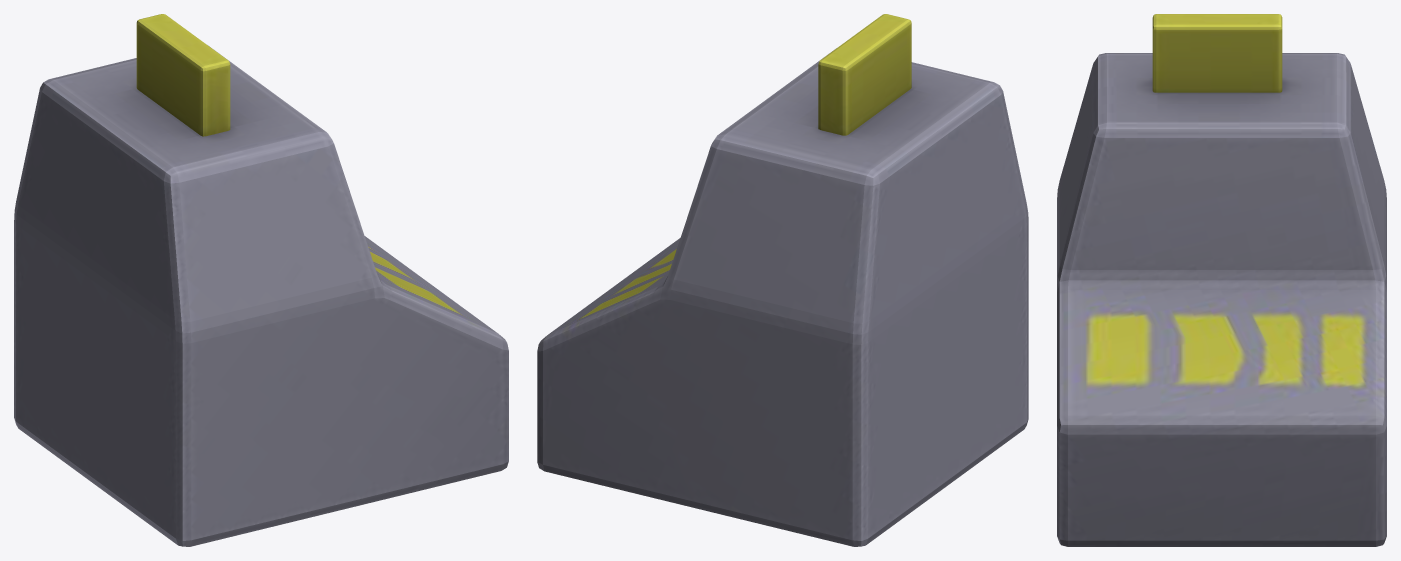
Rendered from SYJ.FBX.
The picture shows the model from 3 angles, left to right: view 1: azimuth 30°, elevation 25°; view 2: azimuth 150°, elevation 25°; view 3: azimuth 270°, elevation 25°; orthographic projection. The views are drawn at different scales.
Parts seen in each view (by area): view 1: 对象001; view 2: 对象001; view 3: 对象001.
Part boxes in pixels (x1,y1,x2,y2): 对象001: [14, 14, 508, 546]; 对象001: [537, 14, 1028, 546]; 对象001: [1057, 14, 1386, 546].
Bounding box in the file's own units: 69.73 × 86.72 × 62.43.
